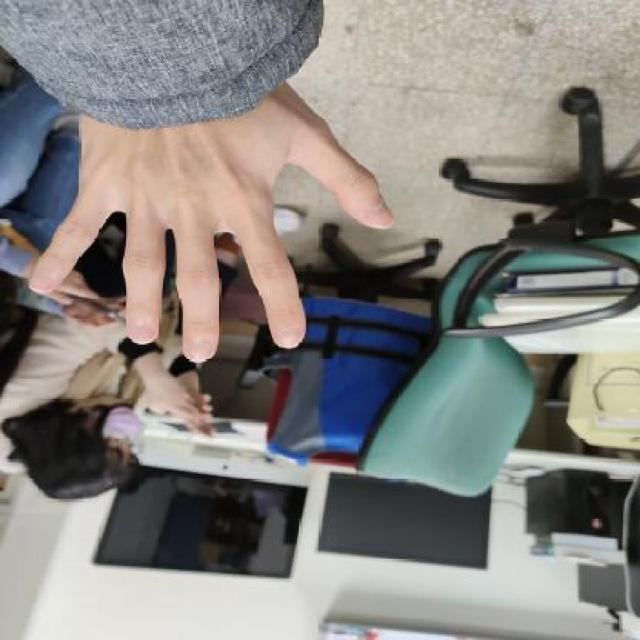bare_hand: (21, 76, 413, 387)
